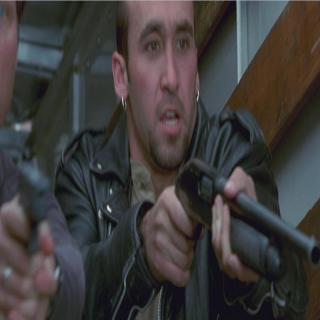gun: (157, 143, 316, 304)
